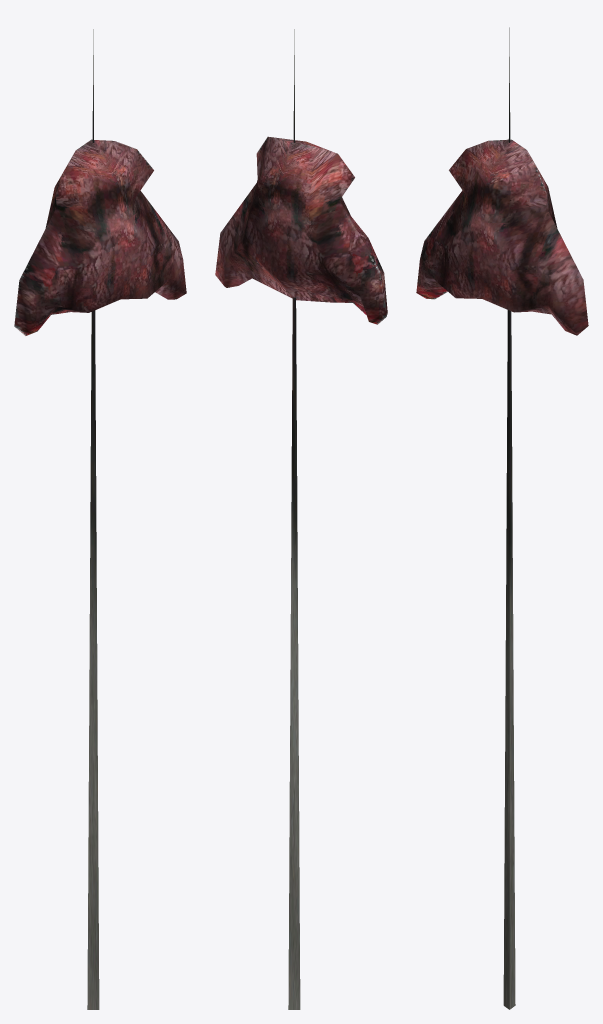
The model's file is eqp_camping_spit_l0.fbx.
3 renders of one model, left to right at view 1: azimuth 30°, elevation 25°; view 2: azimuth 150°, elevation 25°; view 3: azimuth 330°, elevation 25°, orthographic.
Visible parts, largest first — view 1: mesh_node; view 2: mesh_node; view 3: mesh_node.
Boxes of the visible parts, left/top/right/bottom form: mesh_node: left=14, top=29, right=186, bottom=1009; mesh_node: left=215, top=29, right=387, bottom=1009; mesh_node: left=416, top=27, right=588, bottom=1009.
Bounding box in the file's own units: 0.136 × 0.7538 × 0.0618.
1 material, 1 textured.
